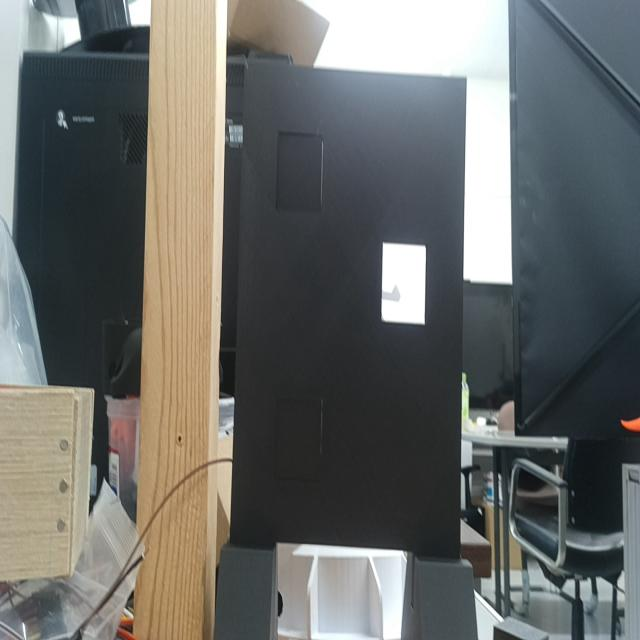Obstacle: (381, 242, 426, 325)
Wall: (230, 61, 467, 555)
